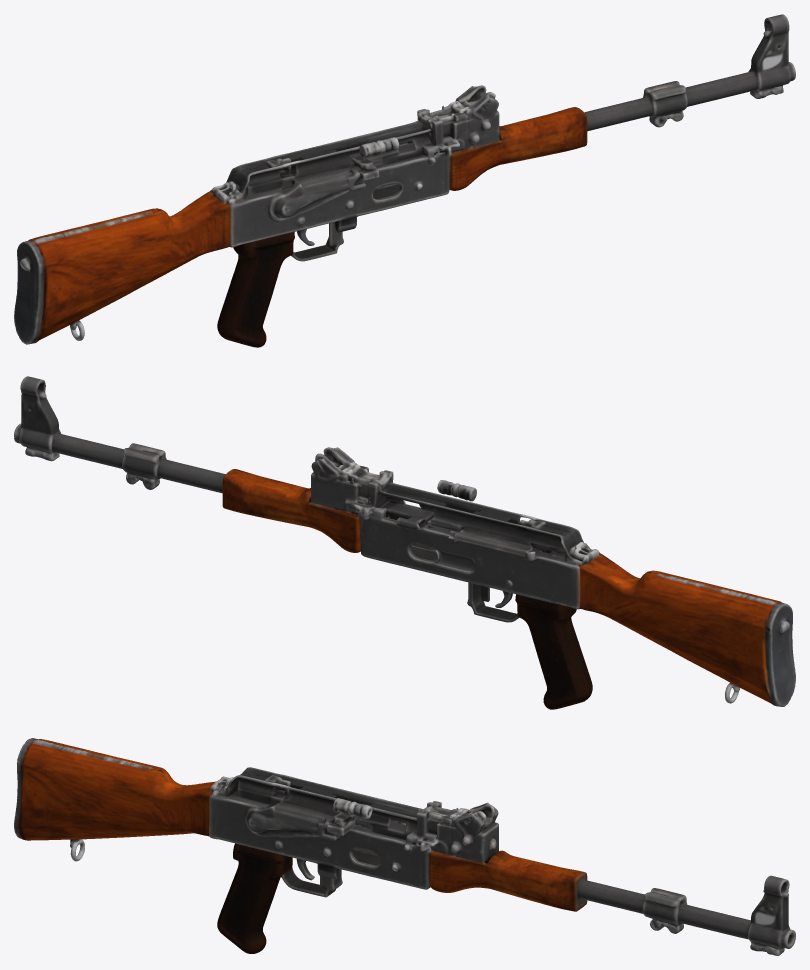
Rendered from body.glb.
3 views of the same model, one above another, from view 1: azimuth 30°, elevation 25°; view 2: azimuth 150°, elevation 25°; view 3: azimuth 330°, elevation 25° (orthographic).
Visible parts, largest first — view 1: geometry_0; view 2: geometry_0; view 3: geometry_0.
Part boxes in pixels (<box>): geometry_0: <box>14,14,795,347</box>; geometry_0: <box>14,376,795,709</box>; geometry_0: <box>14,738,795,955</box>.
Bounding box in the file's own units: 1 × 0.2501 × 0.0775.
Materials: 1 (1 with a texture image).
